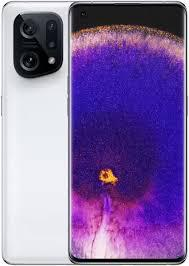Smartphone: (73, 4, 186, 260), (5, 4, 68, 262)
